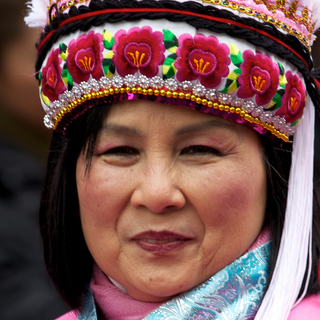eye: (174, 139, 228, 163), (97, 141, 146, 164)
